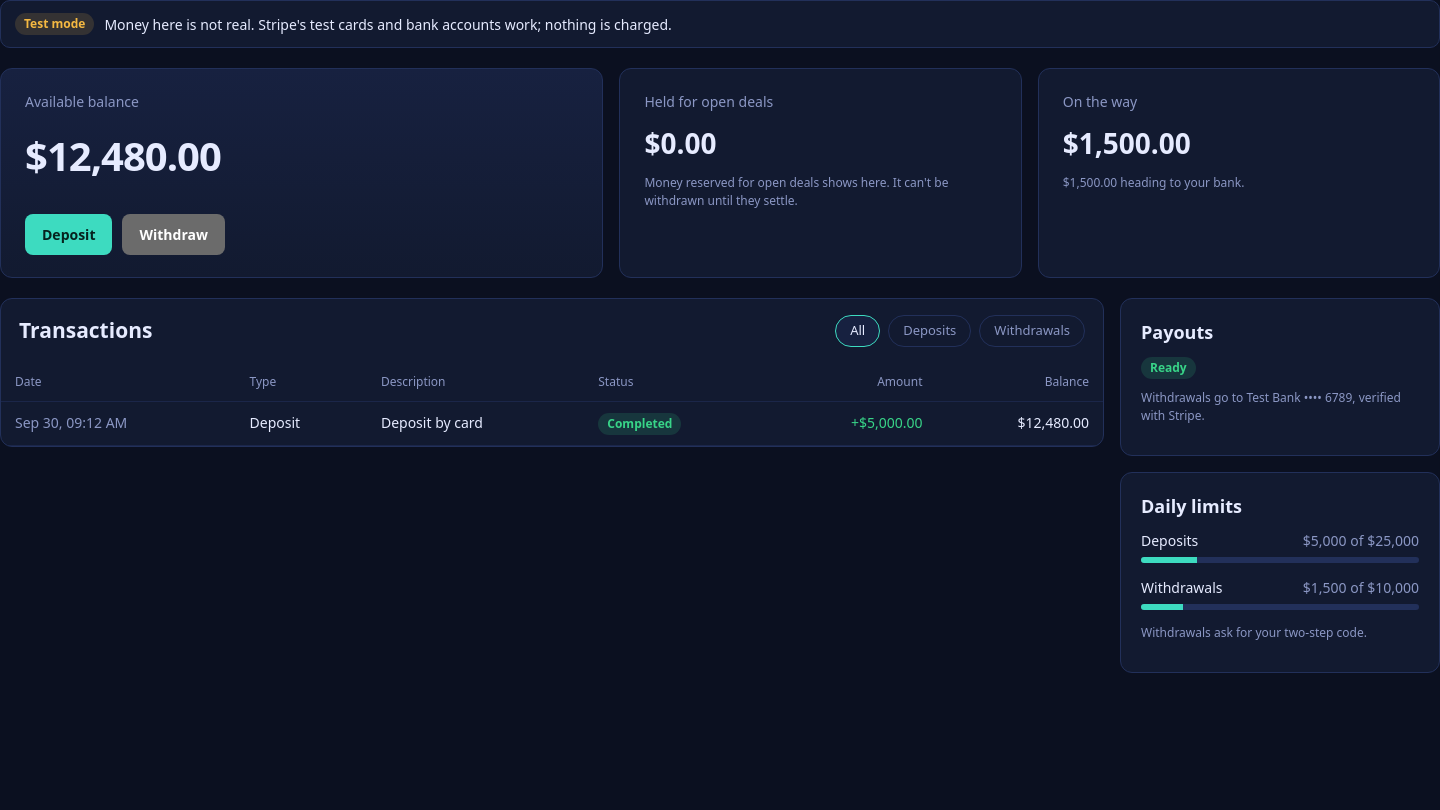
Test: WalletView › withdraw dialog: checks the amount against the balance, asks for the code, and sends both
Click the button "Withdraw" at (174, 234), box 122,214 -> 225,255
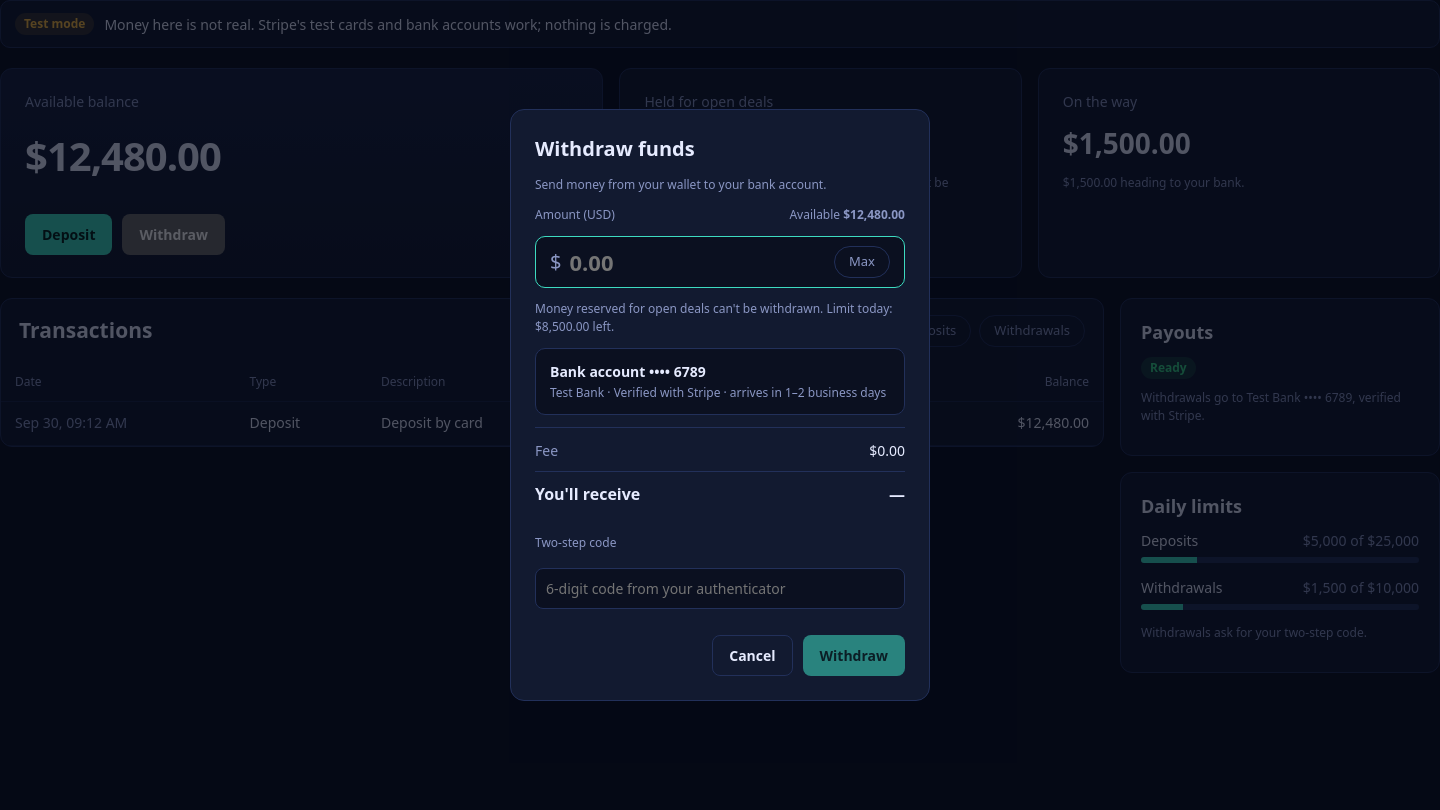
Expected: the button "Withdraw" is disabled, 802,635 -> 905,676
Type "99999" into the field labelled "Amount (USD)" at (698, 262), box 570,246 -> 826,278
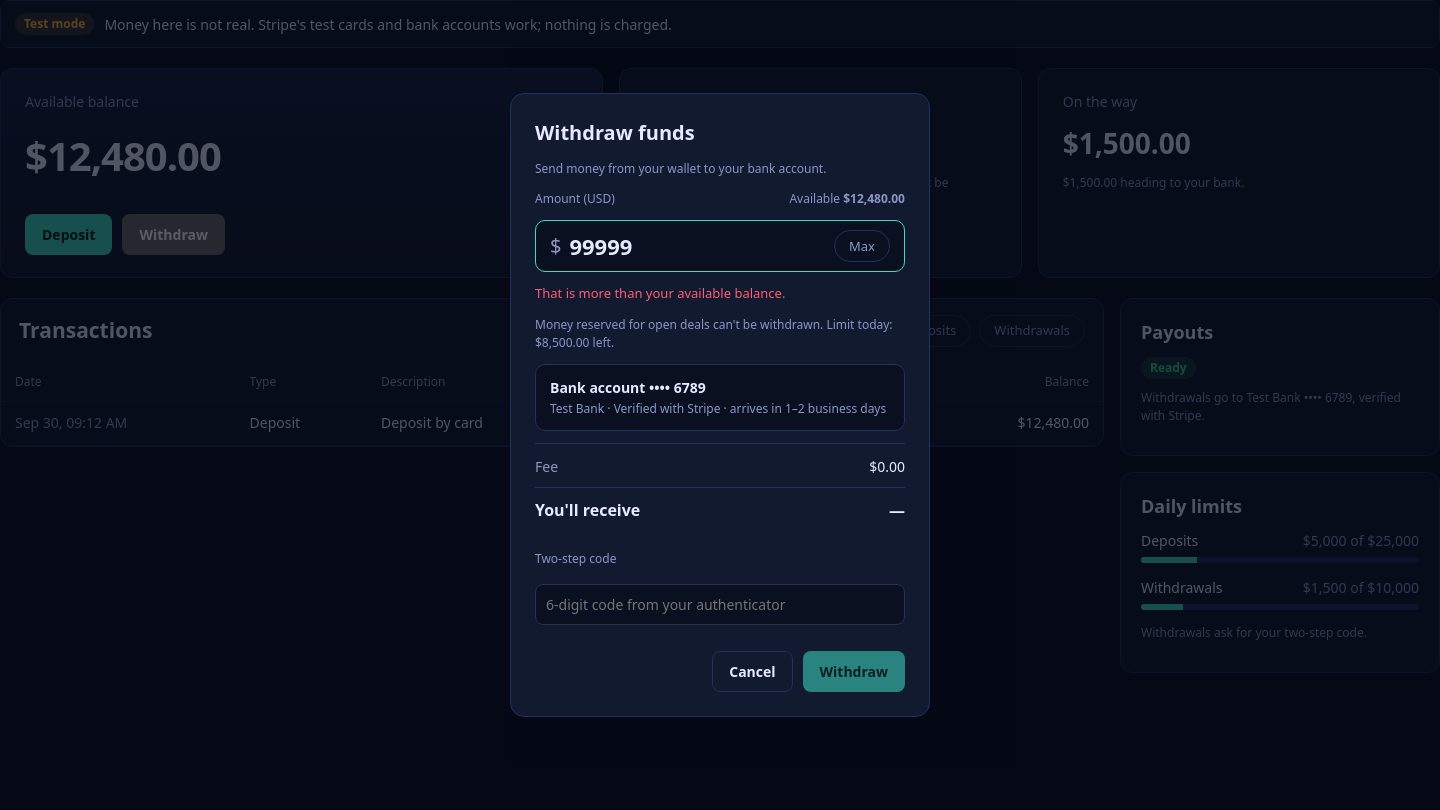
Expected: the message shows "more than your available balance", 535,284 -> 785,302
Click the button "Max" at (862, 246), box 834,230 -> 890,262
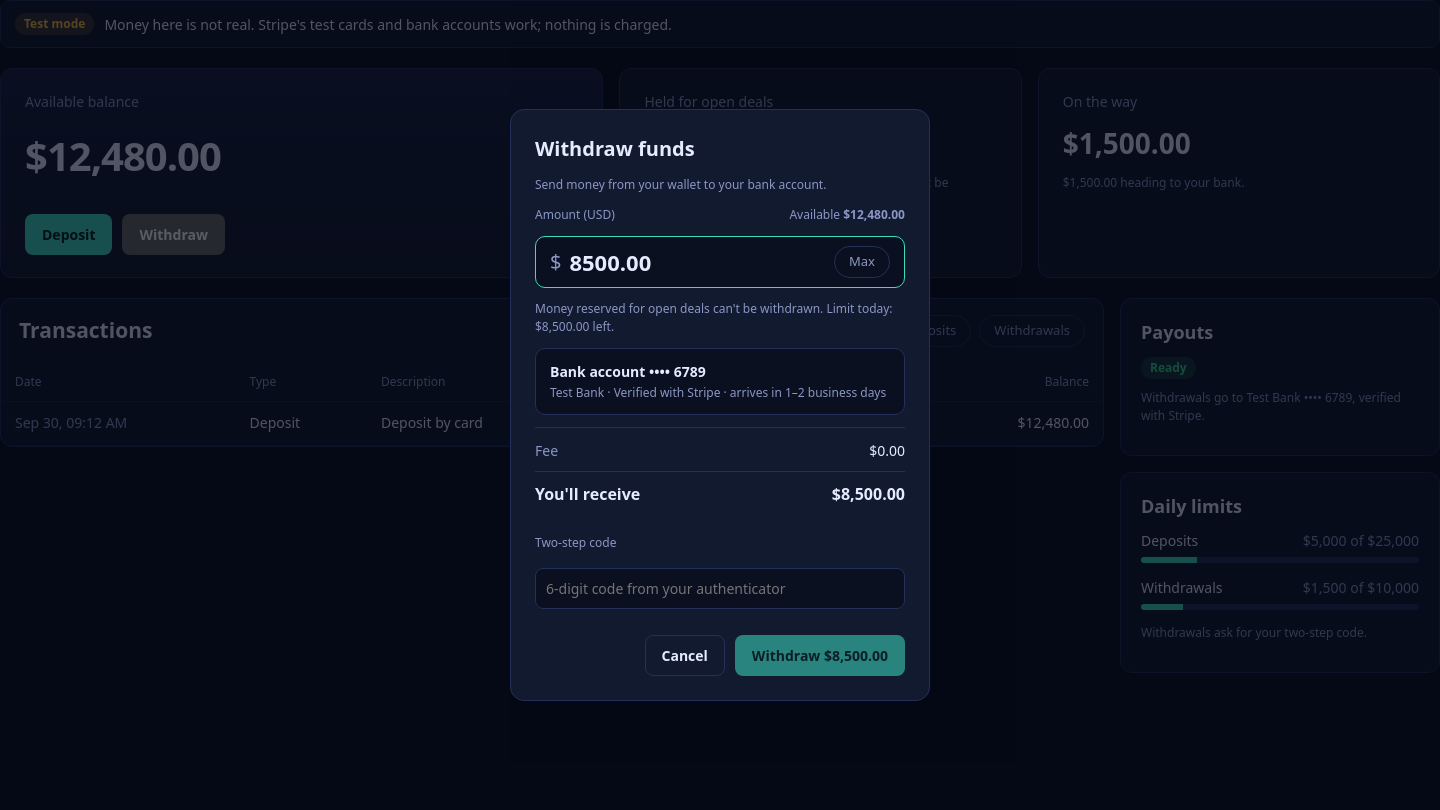
Expected: the field labelled "Amount (USD)" holds "8500.00"
Replace the text in the field labelled "Amount (USD)" with "2000" at (698, 262), box 570,246 -> 826,278
Type "12ab34" into the field labelled "Two-step code" at (720, 588), box 535,568 -> 905,609
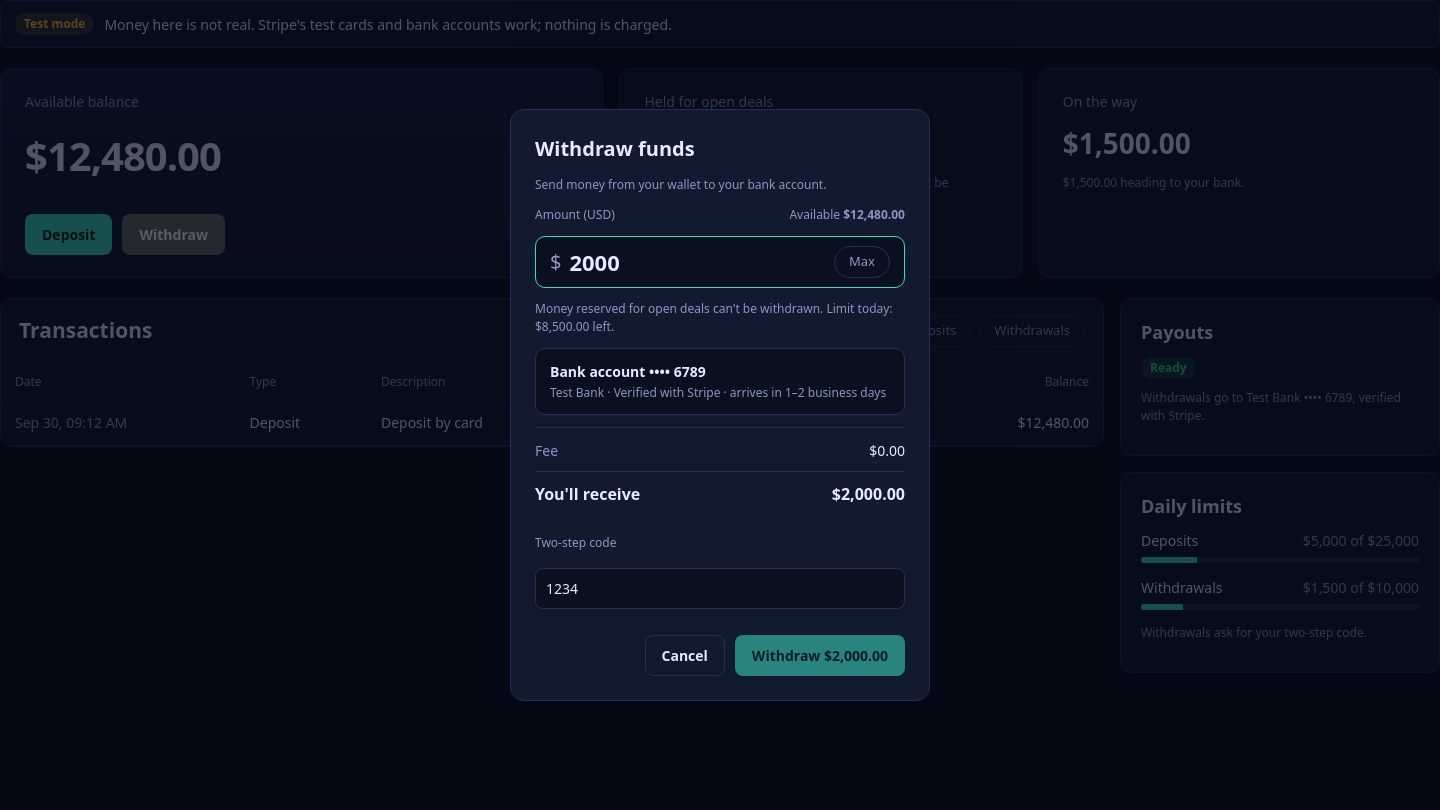
Expected: the button "Withdraw $2,000.00" is disabled, 735,635 -> 905,676
Expected: the field labelled "Two-step code" holds "1234"
Replace the text in the field labelled "Two-step code" with "123456" at (720, 588), box 535,568 -> 905,609
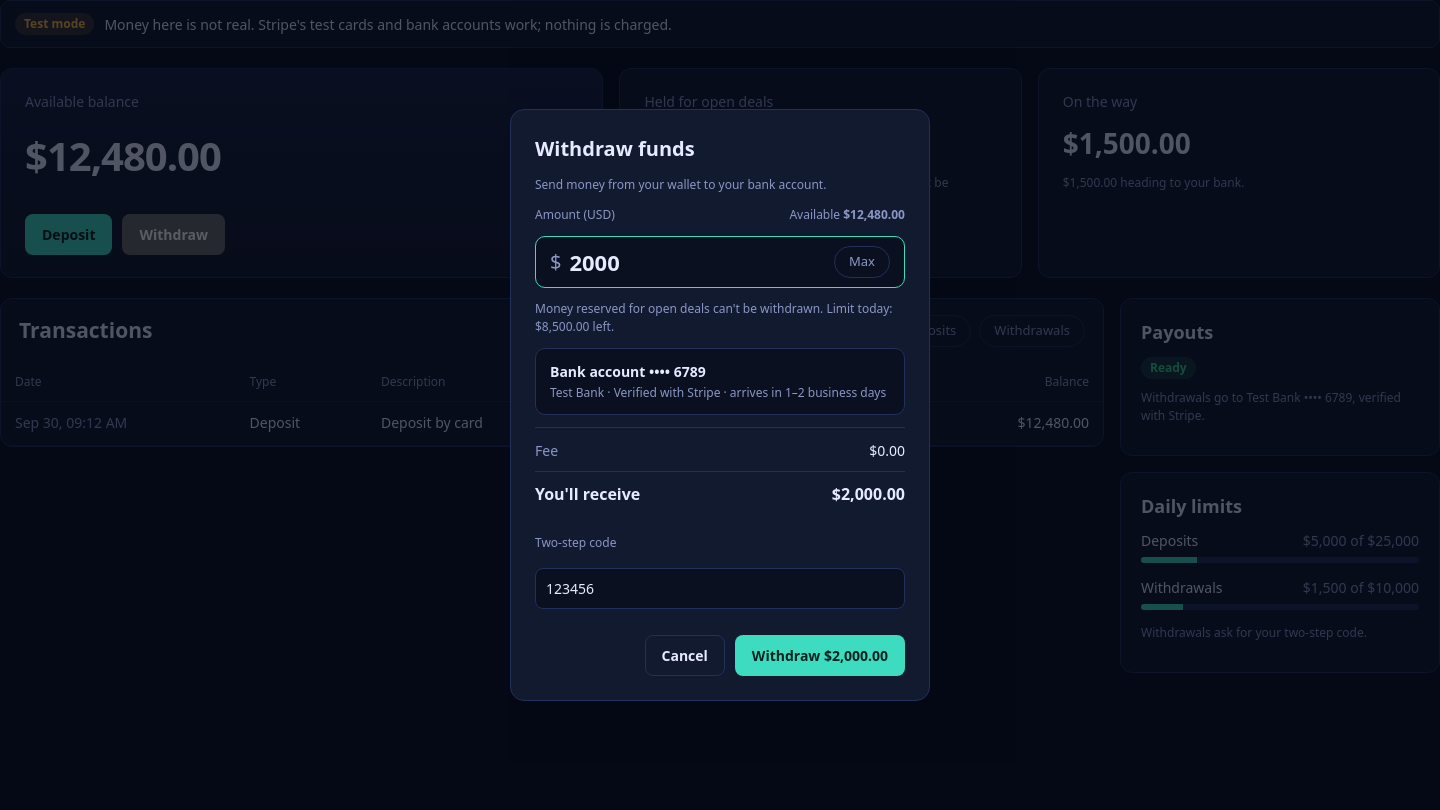
Expected: the button "Withdraw $2,000.00" is shown
Click the button "Withdraw $2,000.00" at (820, 656), box 735,635 -> 905,676
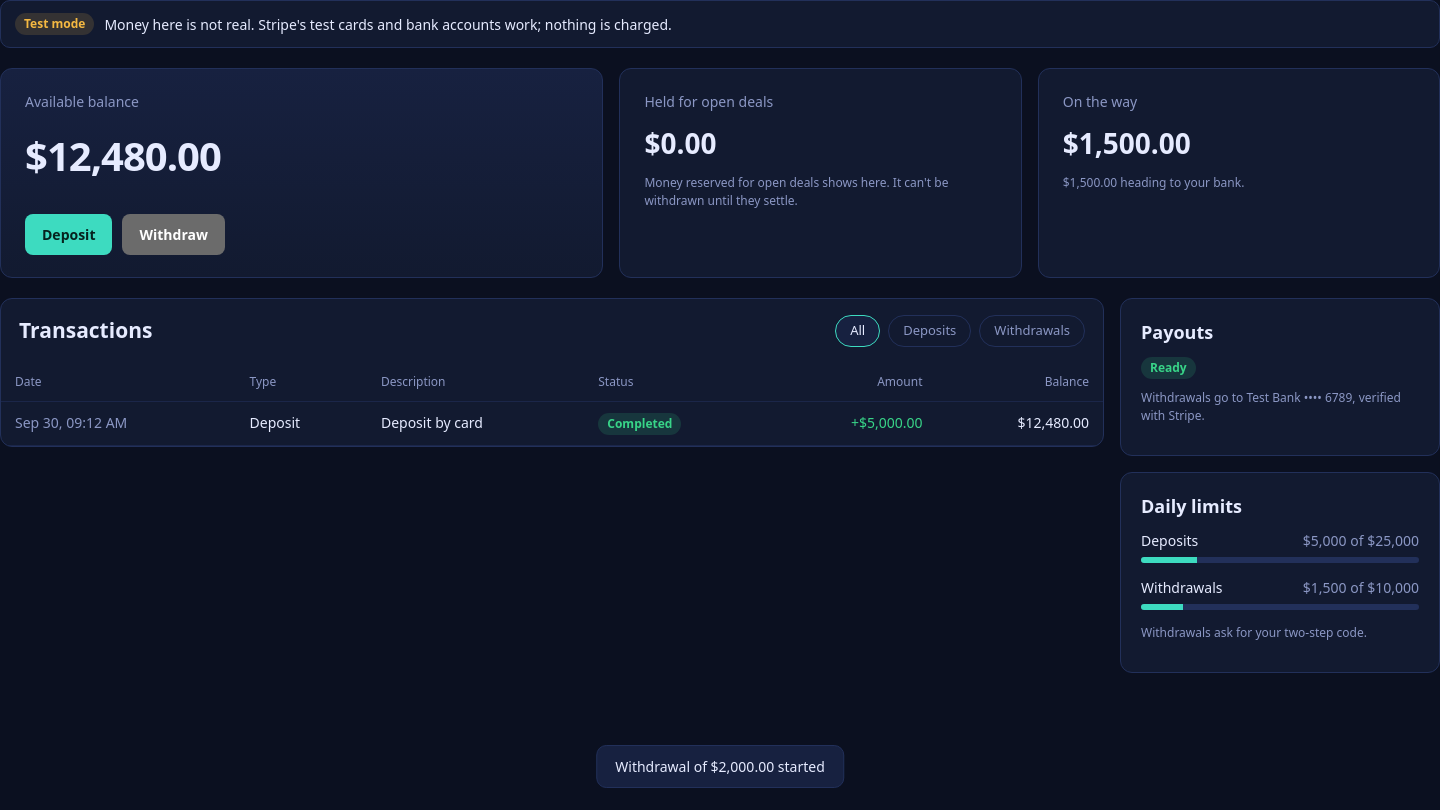
Expected: the dialog is gone
